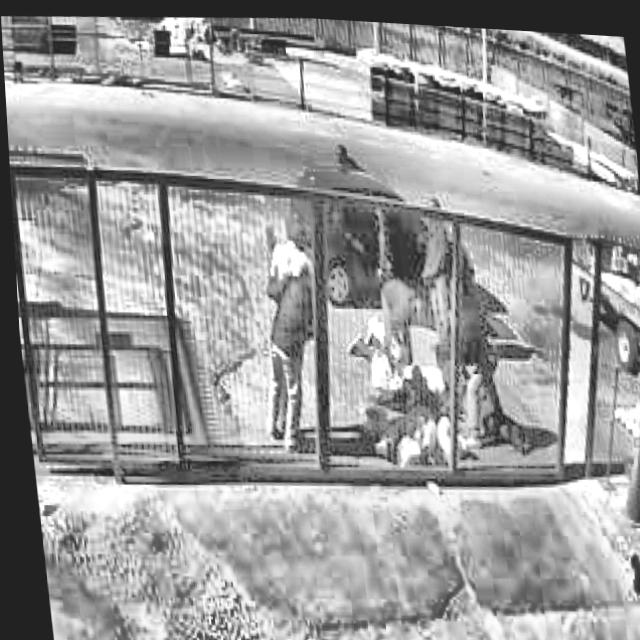robbery: (238, 174, 533, 469)
